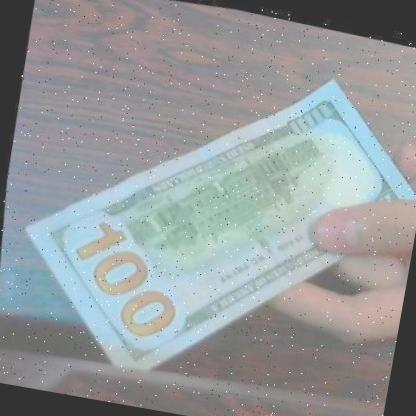one_hundred-back: (0, 9, 416, 416)
